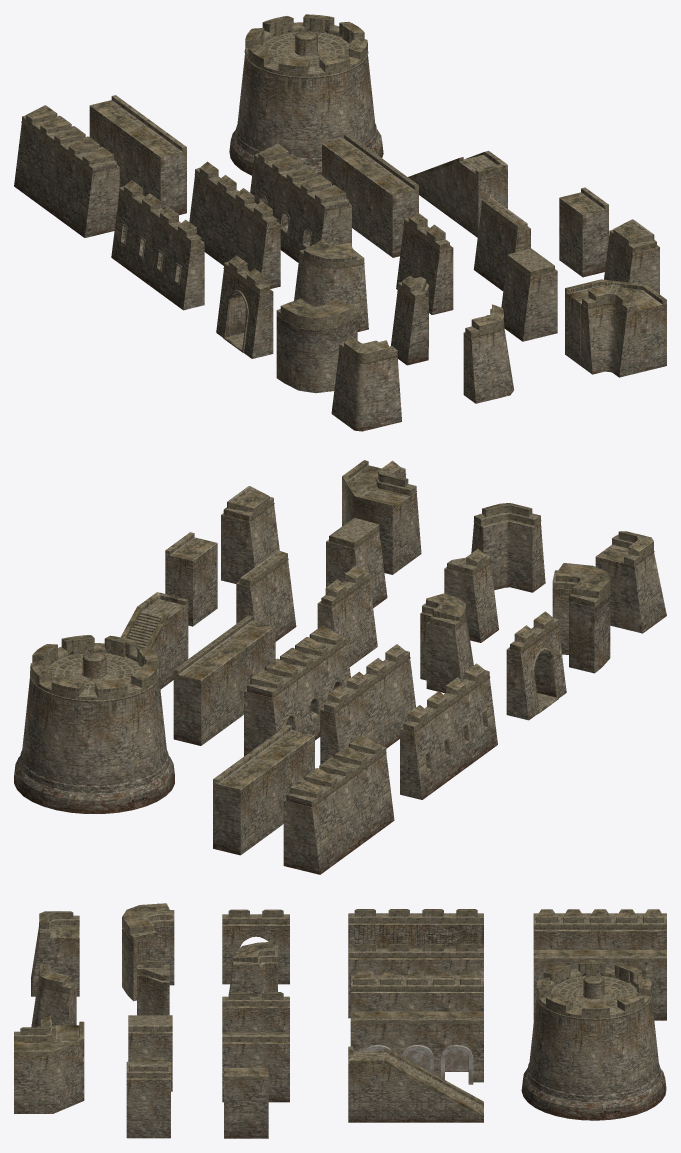
Rendered from fort.glb.
3 renders of one model, top to bottom at view 1: azimuth 30°, elevation 25°; view 2: azimuth 150°, elevation 25°; view 3: azimuth 270°, elevation 25°, orthographic. The views are drawn at different scales.
Visible parts, largest first — view 1: modular_fort_01_tower_round, modular_fort_01_wall_thick_straight_01, modular_fort_01_wall_thin_straight_02, modular_fort_01_wall_thick_straight_02, modular_fort_01_wall_thin_straight_01, modular_fort_01_wall_walkway_straight_01, modular_fort_01_wall_walkway_straight_02, modular_fort_01_wall_thick_corner_02, modular_fort_01_wall_thin_corner_02, modular_fort_01_wall_thin_corner_01, modular_fort_01_wall_stairs_straight_01, modular_fort_01_wall_thin_gate_01 (+9 smaller); view 2: modular_fort_01_tower_round, modular_fort_01_wall_thick_straight_01, modular_fort_01_wall_thin_straight_02, modular_fort_01_wall_walkway_straight_01, modular_fort_01_wall_walkway_straight_02, modular_fort_01_wall_thick_straight_02, modular_fort_01_wall_thin_straight_01, modular_fort_01_wall_thick_corner_02, modular_fort_01_wall_thin_corner_03, modular_fort_01_wall_thin_gate_01, modular_fort_01_wall_thick_corner_01, modular_fort_01_wall_thick_end_02 (+10 smaller); view 3: modular_fort_01_tower_round, modular_fort_01_wall_stairs_straight_01, modular_fort_01_wall_walkway_straight_01, modular_fort_01_wall_walkway_corner_01, modular_fort_01_wall_thick_straight_02, modular_fort_01_wall_thick_straight_01, modular_fort_01_wall_thin_straight_02, modular_fort_01_wall_thin_straight_01, modular_fort_01_wall_thick_end_02, modular_fort_01_wall_thick_corner_02, modular_fort_01_wall_walkway_straight_02, modular_fort_01_wall_thin_straight_03 (+10 smaller).
Part boxes in pixels (left/top/right/bottom): modular_fort_01_tower_round: left=229, top=14, right=383, bottom=175; modular_fort_01_wall_thick_straight_01: left=14, top=105, right=119, bottom=237; modular_fort_01_wall_thin_straight_02: left=111, top=180, right=204, bottom=310; modular_fort_01_wall_thick_straight_02: left=250, top=143, right=351, bottom=262; modular_fort_01_wall_thin_straight_01: left=189, top=161, right=280, bottom=288; modular_fort_01_wall_walkway_straight_01: left=322, top=133, right=418, bottom=257; modular_fort_01_wall_walkway_straight_02: left=89, top=95, right=186, bottom=214; modular_fort_01_wall_thick_corner_02: left=276, top=298, right=357, bottom=393; modular_fort_01_wall_thin_corner_02: left=331, top=336, right=401, bottom=431; modular_fort_01_wall_thin_corner_01: left=580, top=284, right=640, bottom=377; modular_fort_01_wall_stairs_straight_01: left=408, top=150, right=507, bottom=237; modular_fort_01_wall_thin_gate_01: left=216, top=255, right=273, bottom=358; modular_fort_01_tower_round: left=14, top=635, right=174, bottom=813; modular_fort_01_wall_thick_straight_01: left=283, top=735, right=394, bottom=874; modular_fort_01_wall_thin_straight_02: left=400, top=663, right=497, bottom=799; modular_fort_01_wall_walkway_straight_01: left=173, top=615, right=275, bottom=745; modular_fort_01_wall_walkway_straight_02: left=213, top=724, right=314, bottom=855; modular_fort_01_wall_thick_straight_02: left=244, top=626, right=350, bottom=756; modular_fort_01_wall_thin_straight_01: left=320, top=644, right=415, bottom=764; modular_fort_01_wall_thick_corner_02: left=552, top=563, right=610, bottom=673; modular_fort_01_wall_thin_corner_03: left=471, top=503, right=545, bottom=592; modular_fort_01_wall_thin_gate_01: left=506, top=611, right=566, bottom=720; modular_fort_01_wall_thick_corner_01: left=420, top=593, right=473, bottom=693; modular_fort_01_wall_thick_end_02: left=221, top=486, right=279, bottom=583; modular_fort_01_tower_round: left=521, top=960, right=666, bottom=1120; modular_fort_01_wall_stairs_straight_01: left=348, top=1046, right=483, bottom=1122; modular_fort_01_wall_walkway_straight_01: left=350, top=1011, right=483, bottom=1084; modular_fort_01_wall_walkway_corner_01: left=14, top=1021, right=84, bottom=1113; modular_fort_01_wall_thick_straight_02: left=350, top=971, right=483, bottom=1011; modular_fort_01_wall_thick_straight_01: left=533, top=909, right=666, bottom=949; modular_fort_01_wall_thin_straight_02: left=348, top=909, right=483, bottom=948; modular_fort_01_wall_thin_straight_01: left=348, top=943, right=483, bottom=1018; modular_fort_01_wall_thick_end_02: left=126, top=1057, right=170, bottom=1138; modular_fort_01_wall_thick_corner_02: left=122, top=903, right=174, bottom=1001; modular_fort_01_wall_walkway_straight_02: left=533, top=950, right=666, bottom=1020; modular_fort_01_wall_thin_straight_03: left=222, top=1032, right=289, bottom=1102.
Size of the model in its own units: 42.67 by 13.67 by 71.38.
Materials: 3 (3 with a texture image).
